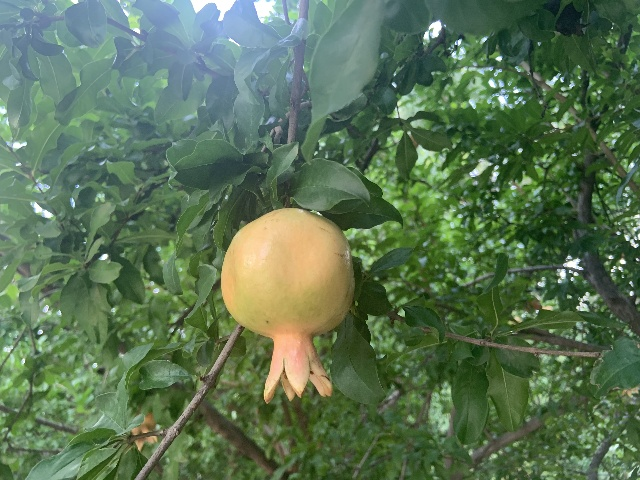mid-growth: (220, 207, 354, 403)
